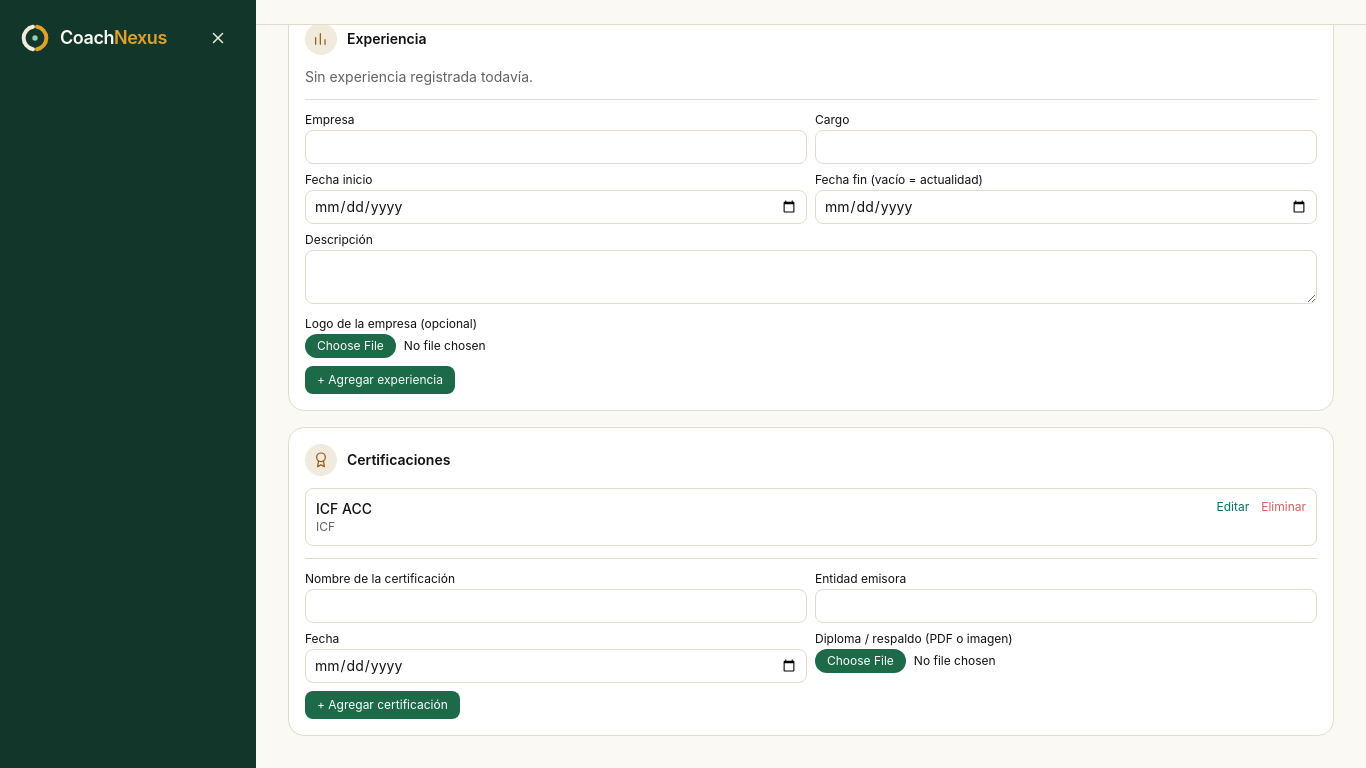
Test case: PerfilView › edits a certificación in place, reusing the form
(page scrolled)
Click the button "Editar".
click(1233, 507)  # box [1216, 499, 1249, 515]
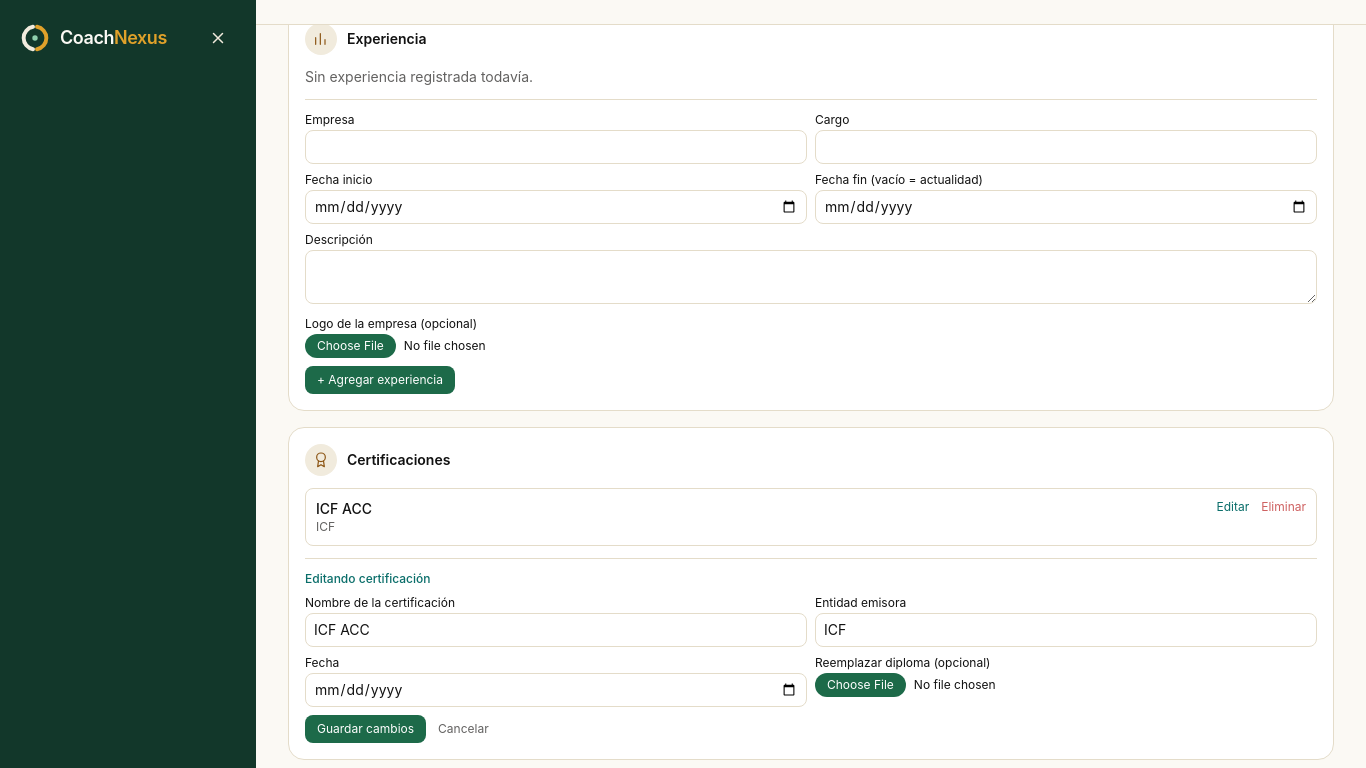
Expected: the text "Editando certificación" is shown, [305, 571, 430, 586]
Replace the text in the field labelled "Nombre de la certificación" with "ICF PCC" at (556, 630), box [305, 613, 807, 647]
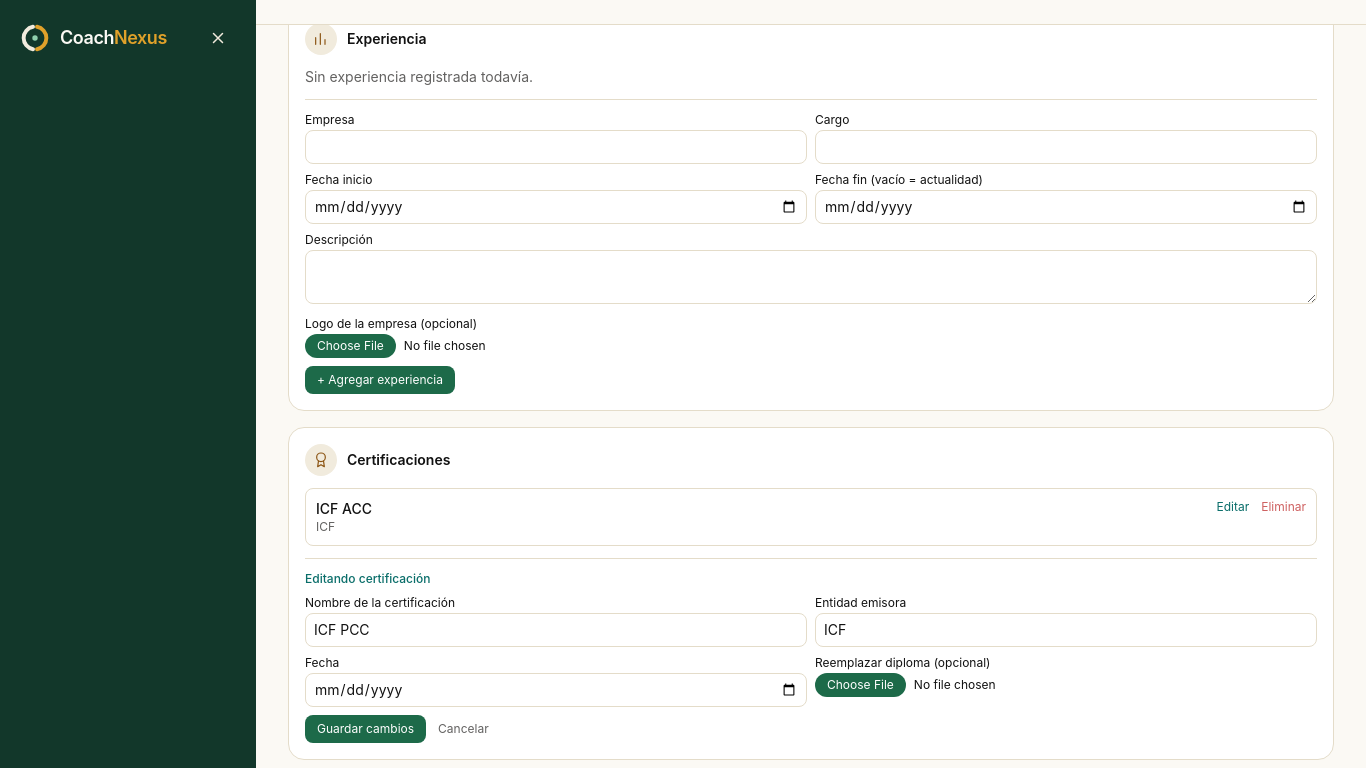
Submit the form that starts with "Editando certificación", box [305, 558, 1317, 743]
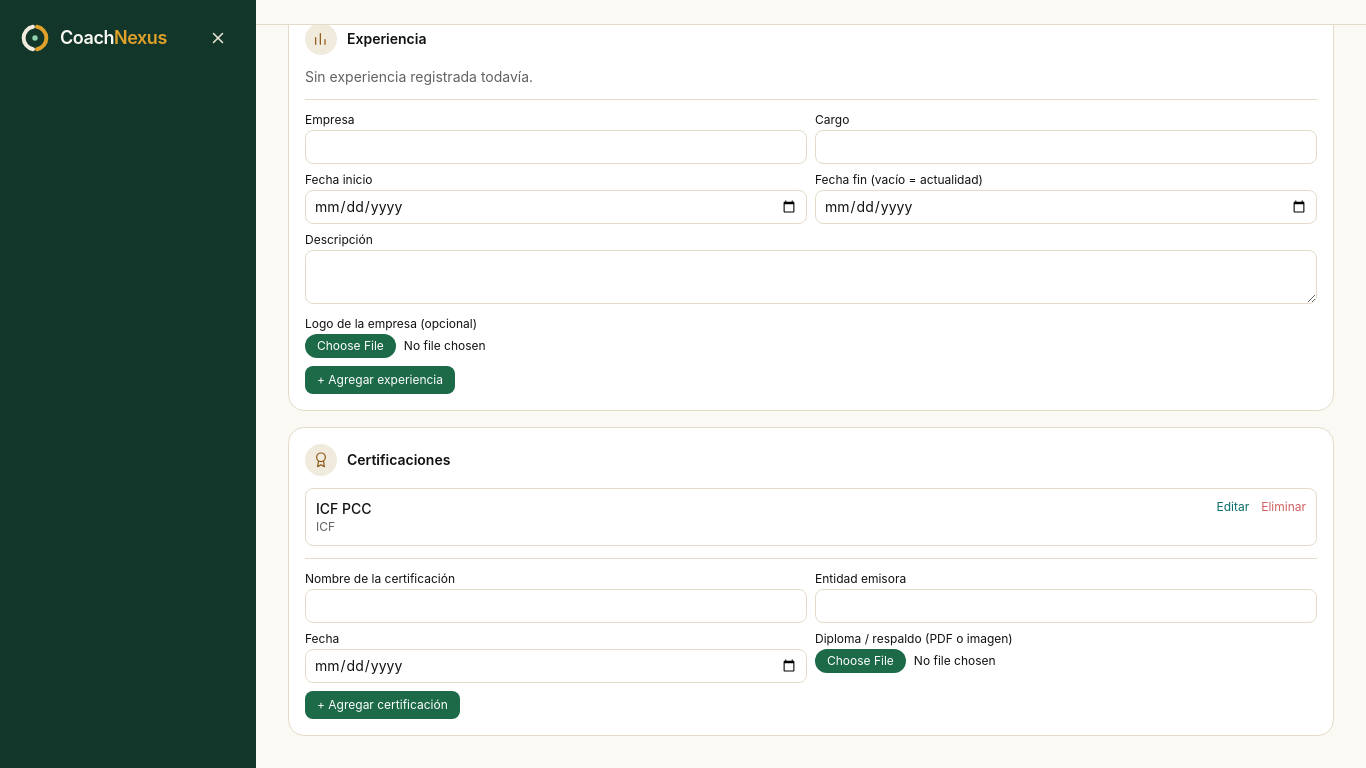
Expected: the text "ICF PCC" is shown, [316, 499, 372, 519]
Expected: the text "Editando certificación" is gone
